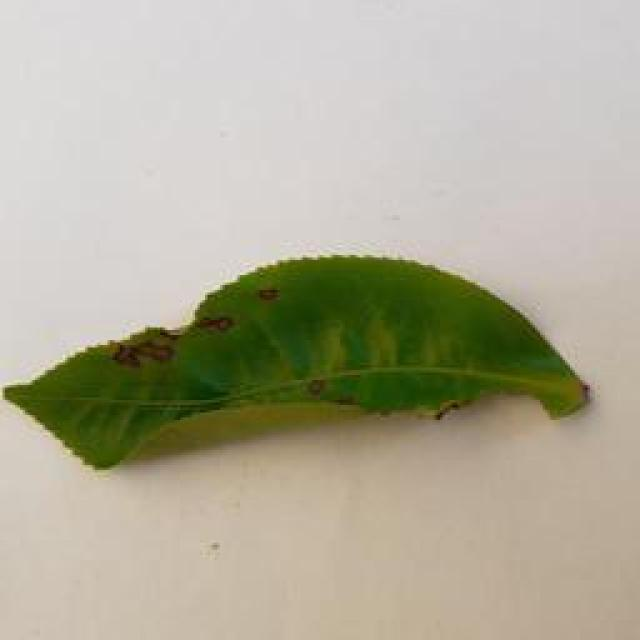Helopeltis: (3, 249, 634, 475)
